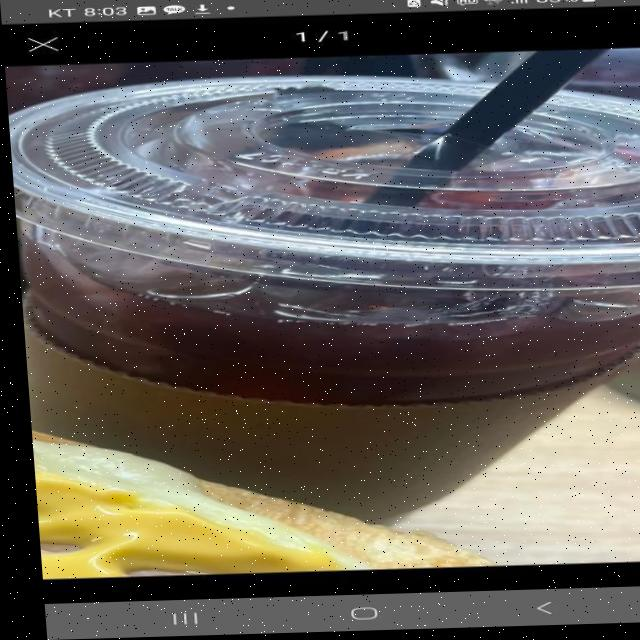cup: (5, 70, 640, 476)
